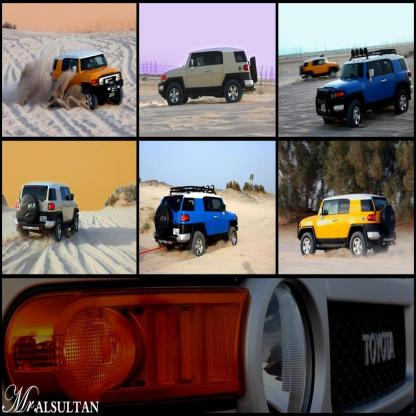Car: (2, 276, 416, 416), (316, 48, 414, 129), (297, 194, 397, 260), (154, 187, 240, 258), (159, 47, 258, 107), (51, 49, 124, 111), (15, 181, 80, 244), (300, 55, 342, 81)
